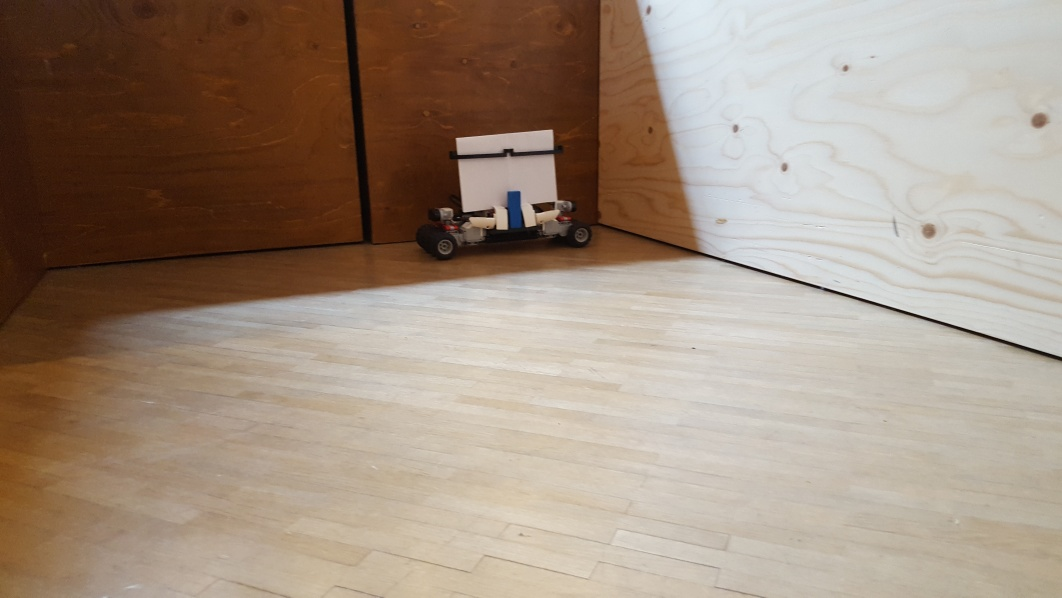car: (416, 130, 592, 260)
